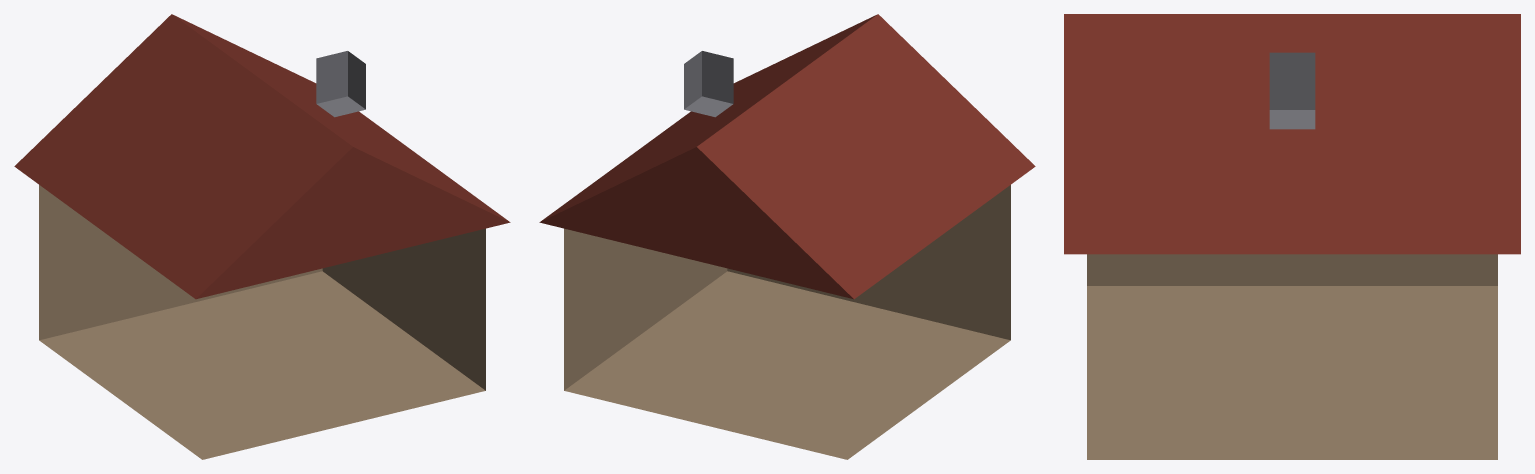
The model's file is inn.glb.
3 renders of one model, left to right at view 1: azimuth 30°, elevation 25°; view 2: azimuth 150°, elevation 25°; view 3: azimuth 270°, elevation 25°, orthographic. The views are drawn at different scales.
Parts seen in each view (by area): view 1: inn; view 2: inn; view 3: inn.
Boxes of the visible parts, x1,y1,x2,y2 form: inn: (14, 14, 510, 459); inn: (539, 14, 1035, 459); inn: (1064, 14, 1520, 459).
Bounding box in the file's own units: 4.03 × 3.49 × 4.02.
